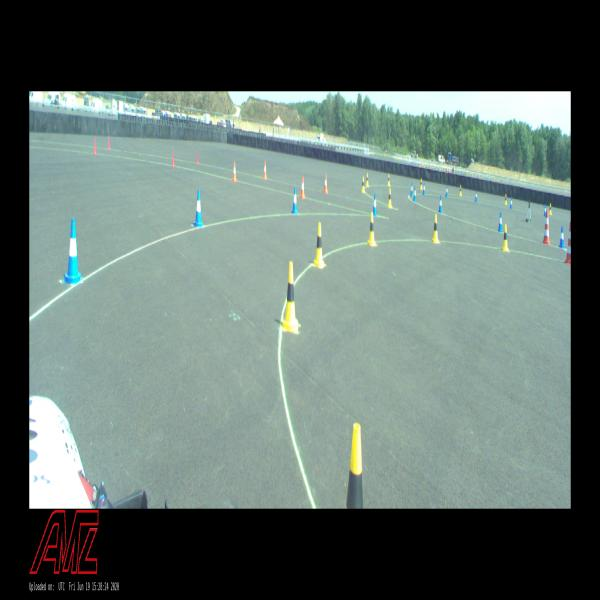blue_cone: (62, 218, 83, 284), (193, 189, 203, 226), (292, 187, 298, 214), (559, 226, 565, 248), (373, 193, 377, 217), (498, 212, 502, 232), (438, 195, 442, 213), (413, 187, 416, 202), (410, 182, 413, 196), (445, 185, 448, 197), (510, 197, 512, 209), (423, 183, 425, 195), (475, 190, 477, 201), (544, 205, 546, 216)
large_orange_cone: (564, 222, 571, 264), (543, 210, 550, 245)
orange_cone: (300, 176, 305, 199), (232, 162, 237, 182), (323, 175, 328, 193), (263, 162, 267, 178)
unknown_cone: (106, 136, 111, 149), (94, 138, 98, 154), (172, 151, 176, 166), (196, 149, 199, 164)
yellow_cone: (346, 424, 363, 508), (283, 262, 298, 332), (314, 222, 324, 267), (368, 211, 376, 246), (432, 214, 439, 242), (502, 224, 508, 251), (388, 189, 392, 208), (362, 177, 366, 192), (366, 173, 369, 186), (420, 178, 423, 190), (459, 185, 462, 196), (549, 204, 552, 214), (388, 173, 390, 186), (505, 194, 507, 204)
